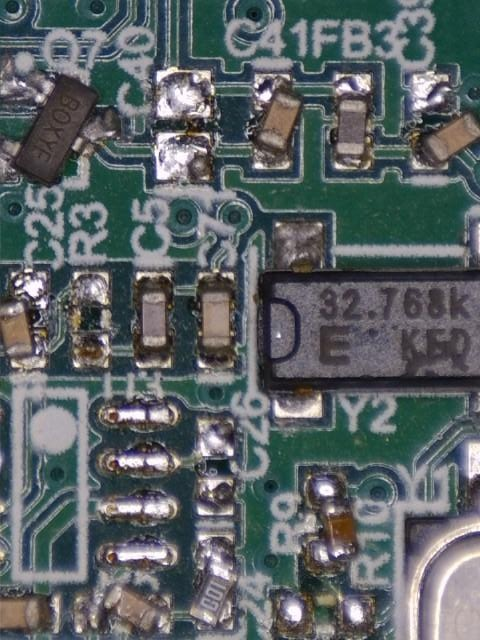pcb_defect: (0, 56, 123, 189), (410, 70, 480, 172), (71, 578, 173, 639), (305, 472, 360, 576), (250, 73, 306, 171), (187, 534, 242, 633), (0, 267, 52, 369), (331, 71, 374, 171)
